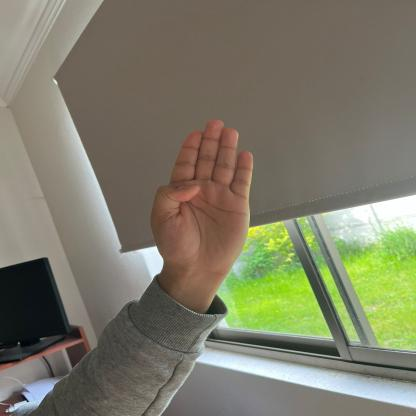B: (152, 115, 257, 276)
